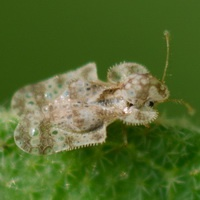insect: (11, 31, 168, 153)
